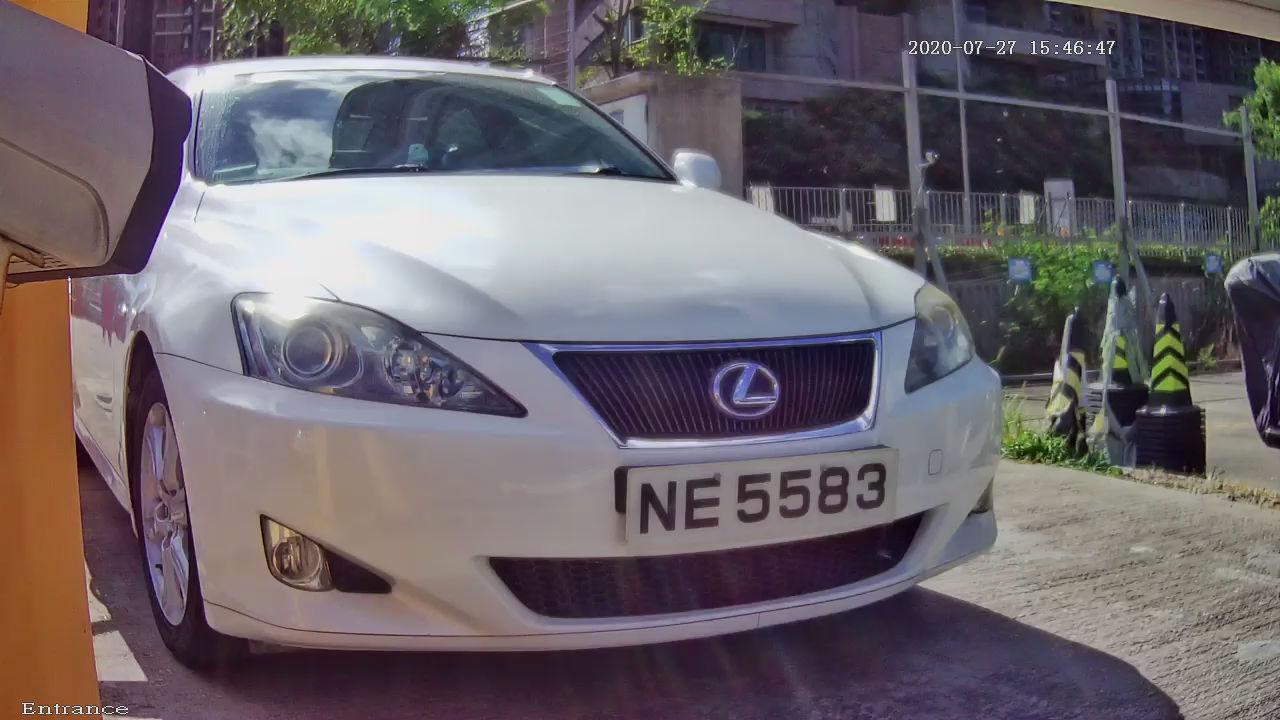privatecar: (98, 20, 1035, 679)
